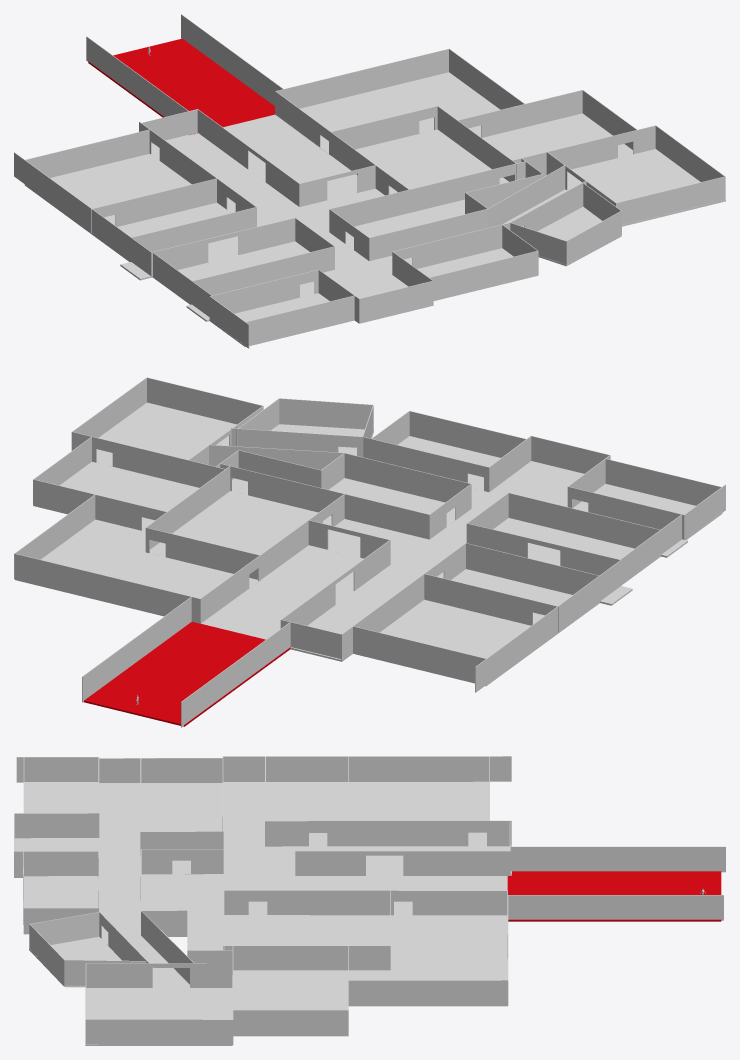
Rendered from first_stage.fbx.
The picture shows the model from 3 angles, top to bottom: view 1: azimuth 30°, elevation 25°; view 2: azimuth 150°, elevation 25°; view 3: azimuth 270°, elevation 25°; orthographic projection. The views are drawn at different scales.
Parts seen in each view (by area): view 1: spawn.014, spawn.013, spawn.008, spawn.011, spawn.004, spawn.006, Cube.004, corridor.007, Cube.034, spawn.009, Cube.035, Cube.033 (+51 smaller); view 2: spawn.014, spawn.013, spawn.008, spawn.011, spawn.004, spawn.006, Cube.004, Cube.034, spawn.009, Cube.019, Cube.035, Cube.032 (+50 smaller); view 3: spawn.013, Cube.034, corridor.002, Cube.031, spawn.004, spawn.014, Cube.046, Cube.045, Cube.002, spawn.011, spawn.006, spawn.009 (+33 smaller).
Boxes of the visible parts, x1,y1,x2,y2 form: spawn.014: (88,38,274,135); spawn.013: (275,72,500,154); spawn.008: (223,114,357,199); spawn.011: (331,129,508,194); spawn.004: (24,153,191,233); spawn.006: (567,149,725,226); Cube.004: (275,48,449,108); corridor.007: (151,132,298,217); Cube.034: (14,152,151,275); spawn.009: (482,113,632,176); Cube.035: (25,129,149,177); Cube.033: (91,178,216,233); spawn.014: (83,622,290,726); spawn.013: (15,519,259,623); spawn.008: (201,545,363,639); spawn.011: (150,491,331,579); spawn.004: (353,599,557,686); spawn.006: (96,402,236,466); Cube.004: (14,553,200,623); Cube.034: (475,560,621,692); spawn.009: (33,461,199,531); Cube.019: (508,493,660,548); Cube.035: (353,626,486,681); Cube.032: (466,543,599,594); spawn.013: (348,915,507,1006); Cube.034: (223,756,511,781); corridor.002: (99,783,140,936); Cube.031: (265,820,511,846); spawn.004: (348,781,489,845); spawn.014: (507,871,721,921); Cube.046: (510,846,725,872); Cube.045: (508,895,723,920); Cube.002: (294,890,507,915); spawn.011: (224,915,389,945); spawn.006: (85,988,232,1045); spawn.009: (232,970,348,1036).
Size of the model in its own units: 34089 by 38246 by 1600.
